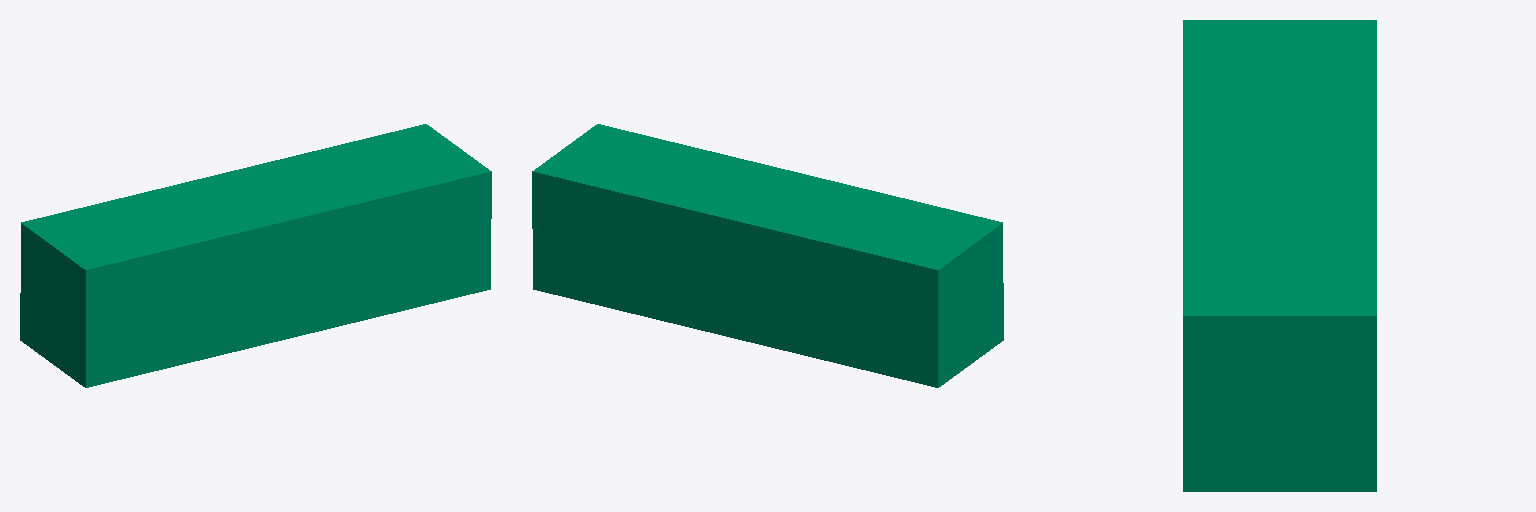
The robot description file, URDF, robot "ur5e_joint_limited_robotiq_2f_85":
<?xml version="1.0" ?>
<!-- =================================================================================== -->
<!-- |    This document was autogenerated by xacro from ur5e_joint_limited_robotiq_2f_85.urdf.xacro | -->
<!-- |    EDITING THIS FILE BY HAND IS NOT RECOMMENDED                                 | -->
<!-- =================================================================================== -->
<robot name="ur5e_joint_limited_robotiq_2f_85" xmlns:xacro="http://ros.org/wiki/xacro">
  <gazebo>
    <plugin filename="libgazebo_ros_control.so" name="ros_control">
      <!--robotNamespace>/</robotNamespace-->
      <!--robotSimType>gazebo_ros_control/DefaultRobotHWSim</robotSimType-->
    </plugin>
    <!--
    <plugin name="gazebo_ros_power_monitor_controller" filename="libgazebo_ros_power_monitor.so">
      <alwaysOn>true</alwaysOn>
      <updateRate>1.0</updateRate>
      <timeout>5</timeout>
      <powerStateTopic>power_state</powerStateTopic>
      <powerStateRate>10.0</powerStateRate>
      <fullChargeCapacity>87.78</fullChargeCapacity>     
      <dischargeRate>-474</dischargeRate>
      <chargeRate>525</chargeRate>
      <dischargeVoltage>15.52</dischargeVoltage>
      <chargeVoltage>16.41</chargeVoltage>
    </plugin>
-->
  </gazebo>
  <!--property name="shoulder_height" value="0.089159" /-->
  <!--property name="shoulder_offset" value="0.13585" /-->
  <!-- shoulder_offset - elbow_offset + wrist_1_length = 0.10915 -->
  <!--property name="upper_arm_length" value="0.42500" /-->
  <!--property name="elbow_offset" value="0.1197" /-->
  <!-- CAD measured -->
  <!--property name="forearm_length" value="0.39225" /-->
  <!--property name="wrist_1_length" value="0.093" /-->
  <!-- CAD measured -->
  <!--property name="wrist_2_length" value="0.09465" /-->
  <!-- In CAD this distance is 0.930, but in the spec it is 0.09465 -->
  <!--property name="wrist_3_length" value="0.0823" /-->
  <!-- manually measured -->
  <link name="base_link">
    <visual>
      <geometry>
        <mesh filename="package://ur_e_description/meshes/ur5e/visual/base.dae"/>
      </geometry>
      <material name="LightGrey">
        <color rgba="0.7 0.7 0.7 1.0"/>
      </material>
    </visual>
    <collision>
      <geometry>
        <mesh filename="package://ur_e_description/meshes/ur5e/collision/base.stl"/>
      </geometry>
    </collision>
    <inertial>
      <mass value="4.0"/>
      <origin rpy="0 0 0" xyz="0.0 0.0 0.0"/>
      <inertia ixx="0.00443333156" ixy="0.0" ixz="0.0" iyy="0.00443333156" iyz="0.0" izz="0.0072"/>
    </inertial>
  </link>
  <joint name="shoulder_pan_joint" type="revolute">
    <parent link="base_link"/>
    <child link="shoulder_link"/>
    <origin rpy="0.0 0.0 0.0" xyz="0.0 0.0 0.163"/>
    <axis xyz="0 0 1"/>
    <limit effort="150.0" lower="-6.28318530718" upper="6.28318530718" velocity="3.14"/>
    <dynamics damping="0.0" friction="0.0"/>
  </joint>
  <link name="shoulder_link">
    <visual>
      <geometry>
        <mesh filename="package://ur_e_description/meshes/ur5e/visual/shoulder.dae"/>
      </geometry>
      <material name="LightGrey">
        <color rgba="0.7 0.7 0.7 1.0"/>
      </material>
    </visual>
    <collision>
      <geometry>
        <mesh filename="package://ur_e_description/meshes/ur5e/collision/shoulder.stl"/>
      </geometry>
    </collision>
    <inertial>
      <mass value="3.7"/>
      <origin rpy="0 0 0" xyz="0.0 0.0 0.0"/>
      <inertia ixx="0.010267495893" ixy="0.0" ixz="0.0" iyy="0.010267495893" iyz="0.0" izz="0.00666"/>
    </inertial>
  </link>
  <joint name="shoulder_lift_joint" type="revolute">
    <parent link="shoulder_link"/>
    <child link="upper_arm_link"/>
    <origin rpy="0.0 1.57079632679 0.0" xyz="0.0 0.138 0.0"/>
    <axis xyz="0 1 0"/>
    <limit effort="150.0" lower="-6.28318530718" upper="6.28318530718" velocity="3.14"/>
    <dynamics damping="0.0" friction="0.0"/>
  </joint>
  <link name="upper_arm_link">
    <visual>
      <geometry>
        <mesh filename="package://ur_e_description/meshes/ur5e/visual/upperarm.dae"/>
      </geometry>
      <material name="LightGrey">
        <color rgba="0.7 0.7 0.7 1.0"/>
      </material>
    </visual>
    <collision>
      <geometry>
        <mesh filename="package://ur_e_description/meshes/ur5e/collision/upperarm.stl"/>
      </geometry>
    </collision>
    <inertial>
      <mass value="8.393"/>
      <origin rpy="0 0 0" xyz="0.0 0.0 0.2125"/>
      <inertia ixx="0.133885781862" ixy="0.0" ixz="0.0" iyy="0.133885781862" iyz="0.0" izz="0.0151074"/>
    </inertial>
  </link>
  <joint name="elbow_joint" type="revolute">
    <parent link="upper_arm_link"/>
    <child link="forearm_link"/>
    <origin rpy="0.0 0.0 0.0" xyz="0.0 -0.131 0.425"/>
    <axis xyz="0 1 0"/>
    <limit effort="150.0" lower="-3.14159265359" upper="3.14159265359" velocity="3.14"/>
    <dynamics damping="0.0" friction="0.0"/>
  </joint>
  <link name="forearm_link">
    <visual>
      <geometry>
        <mesh filename="package://ur_e_description/meshes/ur5e/visual/forearm.dae"/>
      </geometry>
      <material name="LightGrey">
        <color rgba="0.7 0.7 0.7 1.0"/>
      </material>
    </visual>
    <collision>
      <geometry>
        <mesh filename="package://ur_e_description/meshes/ur5e/collision/forearm.stl"/>
      </geometry>
    </collision>
    <inertial>
      <mass value="2.275"/>
      <origin rpy="0 0 0" xyz="0.0 0.0 0.196"/>
      <inertia ixx="0.0311796208615" ixy="0.0" ixz="0.0" iyy="0.0311796208615" iyz="0.0" izz="0.004095"/>
    </inertial>
  </link>
  <joint name="wrist_1_joint" type="revolute">
    <parent link="forearm_link"/>
    <child link="wrist_1_link"/>
    <origin rpy="0.0 1.57079632679 0.0" xyz="0.0 0.0 0.392"/>
    <axis xyz="0 1 0"/>
    <limit effort="28.0" lower="-6.28318530718" upper="6.28318530718" velocity="6.28"/>
    <dynamics damping="0.0" friction="0.0"/>
  </joint>
  <link name="wrist_1_link">
    <visual>
      <geometry>
        <mesh filename="package://ur_e_description/meshes/ur5e/visual/wrist1.dae"/>
      </geometry>
      <material name="LightGrey">
        <color rgba="0.7 0.7 0.7 1.0"/>
      </material>
    </visual>
    <collision>
      <geometry>
        <mesh filename="package://ur_e_description/meshes/ur5e/collision/wrist1.stl"/>
      </geometry>
    </collision>
    <inertial>
      <mass value="1.219"/>
      <origin rpy="0 0 0" xyz="0.0 0.127 0.0"/>
      <inertia ixx="0.00255989897604" ixy="0.0" ixz="0.0" iyy="0.00255989897604" iyz="0.0" izz="0.0021942"/>
    </inertial>
  </link>
  <joint name="wrist_2_joint" type="revolute">
    <parent link="wrist_1_link"/>
    <child link="wrist_2_link"/>
    <origin rpy="0.0 0.0 0.0" xyz="0.0 0.127 0.0"/>
    <axis xyz="0 0 1"/>
    <limit effort="28.0" lower="-6.28318530718" upper="6.28318530718" velocity="6.28"/>
    <dynamics damping="0.0" friction="0.0"/>
  </joint>
  <link name="wrist_2_link">
    <visual>
      <geometry>
        <mesh filename="package://ur_e_description/meshes/ur5e/visual/wrist2.dae"/>
      </geometry>
      <material name="LightGrey">
        <color rgba="0.7 0.7 0.7 1.0"/>
      </material>
    </visual>
    <collision>
      <geometry>
        <mesh filename="package://ur_e_description/meshes/ur5e/collision/wrist2.stl"/>
      </geometry>
    </collision>
    <inertial>
      <mass value="1.219"/>
      <origin rpy="0 0 0" xyz="0.0 0.0 0.1"/>
      <inertia ixx="0.00255989897604" ixy="0.0" ixz="0.0" iyy="0.00255989897604" iyz="0.0" izz="0.0021942"/>
    </inertial>
  </link>
  <joint name="wrist_3_joint" type="revolute">
    <parent link="wrist_2_link"/>
    <child link="wrist_3_link"/>
    <origin rpy="0.0 0.0 0.0" xyz="0.0 0.0 0.1"/>
    <axis xyz="0 1 0"/>
    <limit effort="28.0" lower="-6.28318530718" upper="6.28318530718" velocity="6.28"/>
    <dynamics damping="0.0" friction="0.0"/>
  </joint>
  <link name="wrist_3_link">
    <visual>
      <geometry>
        <mesh filename="package://ur_e_description/meshes/ur5e/visual/wrist3.dae"/>
      </geometry>
      <material name="LightGrey">
        <color rgba="0.7 0.7 0.7 1.0"/>
      </material>
    </visual>
    <collision>
      <geometry>
        <mesh filename="package://ur_e_description/meshes/ur5e/collision/wrist3.stl"/>
      </geometry>
    </collision>
    <inertial>
      <mass value="0.1879"/>
      <origin rpy="1.57079632679 0 0" xyz="0.0 0.0771 0.0"/>
      <inertia ixx="9.89041005217e-05" ixy="0.0" ixz="0.0" iyy="9.89041005217e-05" iyz="0.0" izz="0.0001321171875"/>
    </inertial>
  </link>
  <joint name="ee_fixed_joint" type="fixed">
    <parent link="wrist_3_link"/>
    <child link="ee_link"/>
    <origin rpy="0.0 0.0 1.57079632679" xyz="0.0 0.1 0.0"/>
  </joint>
  <link name="ee_link">
    <collision>
      <geometry>
        <box size="0.01 0.01 0.01"/>
      </geometry>
      <origin rpy="0 0 0" xyz="-0.01 0 0"/>
    </collision>
  </link>
  <transmission name="shoulder_pan_trans">
    <type>transmission_interface/SimpleTransmission</type>
    <joint name="shoulder_pan_joint">
      <hardwareInterface>hardware_interface/PositionJointInterface</hardwareInterface>
    </joint>
    <actuator name="shoulder_pan_motor">
      <mechanicalReduction>1</mechanicalReduction>
    </actuator>
  </transmission>
  <transmission name="shoulder_lift_trans">
    <type>transmission_interface/SimpleTransmission</type>
    <joint name="shoulder_lift_joint">
      <hardwareInterface>hardware_interface/PositionJointInterface</hardwareInterface>
    </joint>
    <actuator name="shoulder_lift_motor">
      <mechanicalReduction>1</mechanicalReduction>
    </actuator>
  </transmission>
  <transmission name="elbow_trans">
    <type>transmission_interface/SimpleTransmission</type>
    <joint name="elbow_joint">
      <hardwareInterface>hardware_interface/PositionJointInterface</hardwareInterface>
    </joint>
    <actuator name="elbow_motor">
      <mechanicalReduction>1</mechanicalReduction>
    </actuator>
  </transmission>
  <transmission name="wrist_1_trans">
    <type>transmission_interface/SimpleTransmission</type>
    <joint name="wrist_1_joint">
      <hardwareInterface>hardware_interface/PositionJointInterface</hardwareInterface>
    </joint>
    <actuator name="wrist_1_motor">
      <mechanicalReduction>1</mechanicalReduction>
    </actuator>
  </transmission>
  <transmission name="wrist_2_trans">
    <type>transmission_interface/SimpleTransmission</type>
    <joint name="wrist_2_joint">
      <hardwareInterface>hardware_interface/PositionJointInterface</hardwareInterface>
    </joint>
    <actuator name="wrist_2_motor">
      <mechanicalReduction>1</mechanicalReduction>
    </actuator>
  </transmission>
  <transmission name="wrist_3_trans">
    <type>transmission_interface/SimpleTransmission</type>
    <joint name="wrist_3_joint">
      <hardwareInterface>hardware_interface/PositionJointInterface</hardwareInterface>
    </joint>
    <actuator name="wrist_3_motor">
      <mechanicalReduction>1</mechanicalReduction>
    </actuator>
  </transmission>
  <gazebo reference="shoulder_link">
    <selfCollide>true</selfCollide>
  </gazebo>
  <gazebo reference="upper_arm_link">
    <selfCollide>true</selfCollide>
  </gazebo>
  <gazebo reference="forearm_link">
    <selfCollide>true</selfCollide>
  </gazebo>
  <gazebo reference="wrist_1_link">
    <selfCollide>true</selfCollide>
  </gazebo>
  <gazebo reference="wrist_3_link">
    <selfCollide>true</selfCollide>
  </gazebo>
  <gazebo reference="wrist_2_link">
    <selfCollide>true</selfCollide>
  </gazebo>
  <gazebo reference="ee_link">
    <selfCollide>true</selfCollide>
  </gazebo>
  <!-- ROS base_link to UR 'Base' Coordinates transform -->
  <link name="base"/>
  <joint name="base_link-base_fixed_joint" type="fixed">
    <!-- NOTE: this rotation is only needed as long as base_link itself is
                 not corrected wrt the real robot (ie: rotated over 180
                 degrees)
      -->
    <origin rpy="0 0 -3.14159265359" xyz="0 0 0"/>
    <parent link="base_link"/>
    <child link="base"/>
  </joint>
  <!-- Frame coincident with all-zeros TCP on UR controller -->
  <link name="tool0"/>
  <joint name="wrist_3_link-tool0_fixed_joint" type="fixed">
    <origin rpy="-1.57079632679 0 0" xyz="0 0.1 0"/>
    <parent link="wrist_3_link"/>
    <child link="tool0"/>
  </joint>
  <link name="realsense_camera_mount_link">
    <inertial>
      <origin rpy="0 0 0" xyz="-0.033226 -0.0065621 -0.0028938"/>
      <mass value="0.14272"/>
      <inertia ixx="0" ixy="0" ixz="0" iyy="0" iyz="0" izz="0"/>
    </inertial>
    <visual>
      <origin rpy="0 0 0" xyz="0 0 0"/>
      <geometry>
        <mesh filename="package://robotiq_2f_85_full/meshes/realsense_camera_link.STL"/>
      </geometry>
      <material name="">
        <color rgba="0.79216 0.81961 0.93333 1"/>
      </material>
    </visual>
    <collision>
      <origin rpy="0 0 0" xyz="0 0 0"/>
      <geometry>
        <mesh filename="package://robotiq_2f_85_full/meshes/realsense_camera_link.STL"/>
      </geometry>
    </collision>
  </link>
  <link name="millibar_adapter_robot_link">
    <inertial>
      <origin rpy="0 0 0" xyz="-0.0184274406708507 -0.00637681665375706 -0.053327869751534"/>
      <mass value="0.0726726298269008"/>
      <inertia ixx="9.38320322471287E-06" ixy="6.46884881109961E-08" ixz="1.85110039132892E-07" iyy="9.26662239699562E-06" iyz="-8.03404544445827E-07" izz="1.17418969978238E-06"/>
    </inertial>
    <visual>
      <origin rpy="0 0 0" xyz="0 0 0"/>
      <geometry>
        <mesh filename="package://robotiq_2f_85_full/meshes/millibar_adapter_robot_link.STL"/>
      </geometry>
      <material name="">
        <color rgba="0.776470588235294 0.756862745098039 0.737254901960784 1"/>
      </material>
    </visual>
    <collision>
      <origin rpy="0 0 0" xyz="0 0 0"/>
      <geometry>
        <mesh filename="package://robotiq_2f_85_full/meshes/millibar_adapter_robot_link.STL"/>
      </geometry>
    </collision>
  </link>
  <joint name="realsense_adapter_to_millibar_adapter_robot_joint" type="fixed">
    <origin rpy="2.7059E-16 0.7854 -3.1416" xyz="-0.10267 0.0074988 0.0034576"/>
    <parent link="realsense_camera_mount_link"/>
    <child link="millibar_adapter_robot_link"/>
    <axis xyz="0 0 0"/>
  </joint>
  <link name="millibar_adapter_gripper_link">
    <inertial>
      <origin rpy="0 0 0" xyz="0.000339767777517416 0.000413108059073474 -0.00316348991929165"/>
      <mass value="0.0615924087528081"/>
      <inertia ixx="2.6820752422346E-06" ixy="-1.20350331596028E-07" ixz="6.48740657216567E-08" iyy="6.10831607617094E-07" iyz="1.12024733686772E-06" izz="2.0851827265745E-06"/>
    </inertial>
    <visual>
      <origin rpy="0 0 0" xyz="0 0 0"/>
      <geometry>
        <mesh filename="package://robotiq_2f_85_full/meshes/millibar_adapter_gripper_link.STL"/>
      </geometry>
      <material name="">
        <color rgba="0.647058823529412 0.619607843137255 0.588235294117647 1"/>
      </material>
    </visual>
    <collision>
      <origin rpy="0 0 0" xyz="0 0 0"/>
      <geometry>
        <mesh filename="package://robotiq_2f_85_full/meshes/millibar_adapter_gripper_link.STL"/>
      </geometry>
    </collision>
  </link>
  <joint name="millibar_adapter_robot_to_millibar_adapter_gripper_joint" type="fixed">
    <origin rpy="0 -1.5707963267949 0" xyz="-0.0163169066859088 -0.019447 -0.051496847997168"/>
    <parent link="millibar_adapter_robot_link"/>
    <child link="millibar_adapter_gripper_link"/>
    <axis xyz="0 0 0"/>
  </joint>
  <link name="tcpip_adapter_link">
    <inertial>
      <origin rpy="0 0 0" xyz="-0.00136790557020363 8.53247449260908E-05 -0.00126580798615109"/>
      <mass value="0.0395985753458659"/>
      <inertia ixx="0" ixy="0" ixz="0" iyy="0" iyz="0" izz="0"/>
    </inertial>
    <visual>
      <origin rpy="0 0 0" xyz="0 0 0"/>
      <geometry>
        <mesh filename="package://robotiq_2f_85_full/meshes/tcpip_adapter_link.STL"/>
      </geometry>
      <material name="">
        <color rgba="0.796078431372549 0.823529411764706 0.937254901960784 1"/>
      </material>
    </visual>
    <collision>
      <origin rpy="0 0 0" xyz="0 0 0"/>
      <geometry>
        <mesh filename="package://robotiq_2f_85_full/meshes/tcpip_adapter_link.STL"/>
      </geometry>
    </collision>
  </link>
  <joint name="millibar_adapter_gripper_to_tcpip_adapter_joint" type="fixed">
    <origin rpy="1.5707963267949 2.77555756156289E-16 1.97215226305253E-31" xyz="0 -0.019 0"/>
    <parent link="millibar_adapter_gripper_link"/>
    <child link="tcpip_adapter_link"/>
    <axis xyz="0 0 0"/>
  </joint>
  <link name="robotiq_2f_85_body_link">
    <inertial>
      <origin rpy="0 0 0" xyz="0.00438949381849164 0.0105529993808305 0.199500811777213"/>
      <mass value="0.234330881455963"/>
      <inertia ixx="9.20072404929443E-06" ixy="-9.55166293501857E-13" ixz="1.00683829390664E-10" iyy="9.34710914818527E-06" iyz="8.52705980009592E-08" izz="1.60641773920936E-07"/>
    </inertial>
    <visual>
      <origin rpy="0 0 0" xyz="0 0 0"/>
      <geometry>
        <mesh filename="package://robotiq_2f_85_full/meshes/robotiq_2f_85_body_link.STL"/>
      </geometry>
      <material name="">
        <color rgba="0.792156862745098 0.819607843137255 0.933333333333333 1"/>
      </material>
    </visual>
    <collision>
      <origin rpy="0 0 0" xyz="0 0 0"/>
      <geometry>
        <mesh filename="package://robotiq_2f_85_full/meshes/robotiq_2f_85_body_link.STL"/>
      </geometry>
    </collision>
  </link>
  <joint name="tcpip_adapter_to_robotiq_2f_85_body_joint" type="fixed">
    <origin rpy="-6.93889390390723E-16 -5.52350545074437E-28 -7.95752352900081E-13" xyz="-0.00438896412532407 -0.0105415302656592 -0.162248066837809"/>
    <parent link="tcpip_adapter_link"/>
    <child link="robotiq_2f_85_body_link"/>
    <axis xyz="0 0 0"/>
  </joint>
  <link name="robotiq_2f_85_left_finger_link">
    <inertial>
      <origin rpy="0 0 0" xyz="0.00418730309969449 0.0317563630844434 0.255882424968551"/>
      <mass value="0.038905376961614"/>
      <inertia ixx="1.68705018386956E-05" ixy="-9.67455762819946E-13" ixz="-2.93070106557132E-06" iyy="2.40910213017045E-05" iyz="3.97452007549286E-13" izz="7.22051946300933E-06"/>
    </inertial>
    <visual>
      <origin rpy="0 0 0" xyz="0 0 0"/>
      <geometry>
        <mesh filename="package://robotiq_2f_85_full/meshes/robotiq_2f_85_left_finger_link.STL"/>
      </geometry>
      <material name="">
        <color rgba="0.792156862745098 0.819607843137255 0.933333333333333 1"/>
      </material>
    </visual>
    <collision>
      <origin rpy="0 0 0" xyz="0 0 0"/>
      <geometry>
        <mesh filename="package://robotiq_2f_85_full/meshes/robotiq_2f_85_left_finger_link.STL"/>
      </geometry>
    </collision>
  </link>
  <joint name="robotiq_2f_85_body_to_robotiq_2f_85_left_finger_joint" type="fixed">
    <origin rpy="0 0 -3.14159265358979" xyz="0.0614081599849013 0.0421978920004752 0"/>
    <parent link="robotiq_2f_85_body_link"/>
    <child link="robotiq_2f_85_left_finger_link"/>
    <axis xyz="0 0 0"/>
  </joint>
  <link name="robotiq_2f_85_right_finger_link">
    <inertial>
      <origin rpy="0 0 0" xyz="0.109851081060267 0.0317563608841004 0.255882429187002"/>
      <mass value="0.0389053769573109"/>
      <inertia ixx="1.68705133963097E-05" ixy="-9.16643854665332E-13" ixz="2.93071184589305E-06" iyy="2.40910344039002E-05" iyz="-1.0779768214657E-12" izz="7.22052100759103E-06"/>
    </inertial>
    <visual>
      <origin rpy="0 0 0" xyz="0 0 0"/>
      <geometry>
        <mesh filename="package://robotiq_2f_85_full/meshes/robotiq_2f_85_right_finger_link.STL"/>
      </geometry>
      <material name="">
        <color rgba="0.792156862745098 0.819607843137255 0.933333333333333 1"/>
      </material>
    </visual>
    <collision>
      <origin rpy="0 0 0" xyz="0 0 0"/>
      <geometry>
        <mesh filename="package://robotiq_2f_85_full/meshes/robotiq_2f_85_right_finger_link.STL"/>
      </geometry>
    </collision>
  </link>
  <joint name="robotiq_2f_85_body_to_robotiq_2f_85_right_finger_joint" type="fixed">
    <origin rpy="0 0 -3.14159265358979" xyz="0.0614081599849013 0.0421978920004752 0"/>
    <parent link="robotiq_2f_85_body_link"/>
    <child link="robotiq_2f_85_right_finger_link"/>
    <axis xyz="0 0 0"/>
  </joint>
  <link name="tcp_link"/>
  <joint name="tcpip_adapter_to_tcp_joint" type="fixed">
    <origin rpy="0 0 0" xyz="-0.0 0.0 0.14"/>
    <parent link="tcpip_adapter_link"/>
    <child link="tcp_link"/>
    <axis xyz="0 0 0"/>
  </joint>
  <link name="realsense_camera_link">
    <visual>
      <origin rpy="0 0 0" xyz="0 0 0"/>
      <geometry>
        <box size="0.09 0.025 0.025"/>
      </geometry>
    </visual>
  </link>
  <joint name="realsense_camera_adapter_to_realsense_camera_joint" type="fixed">
    <origin rpy="0 0.7854 0" xyz="0.00625 0.008125 0.04375"/>
    <parent link="realsense_camera_mount_link"/>
    <child link="realsense_camera_link"/>
    <axis xyz="0 0 0"/>
  </joint>
  <joint name="robotiq_85_adapters_joint" type="fixed">
    <parent link="tool0"/>
    <child link="realsense_camera_mount_link"/>
    <origin rpy="1.5707 0.0 -0.785" xyz="0.0235 -0.0535 0.0115"/>
  </joint>
  <!-- world -->
  <link name="world"/>
  <!-- world to robot joint -->
  <joint name="world_joint" type="fixed">
    <parent link="world"/>
    <child link="base_link"/>
    <origin rpy="0.0 0.0 0.0" xyz="0.0 0.0 0.0"/>
  </joint>
</robot>

--- Facts derived from the render (not from the file) ---
Views: 3 orthographic renders of the robot side by side, from view 1: azimuth 30°, elevation 25°; view 2: azimuth 150°, elevation 25°; view 3: azimuth 270°, elevation 25°.
Robot: ur5e_joint_limited_robotiq_2f_85 — 20 links, 19 joints (6 revolute, 13 fixed); root link world; default pose: every joint at zero.
Links seen in each view (by area): view 1: realsense_camera_link; view 2: realsense_camera_link; view 3: realsense_camera_link.
Boxes of the visible links, box(x1,y1,x2,y2) form: realsense_camera_link: box(20, 124, 491, 387); realsense_camera_link: box(532, 124, 1003, 387); realsense_camera_link: box(1183, 20, 1376, 491).
Size in the robot's own frame: 0.09 by 0.025 by 0.025 metres.
0 mesh visuals loaded from 14 distinct referenced files (none loaded); not drawn: 14 (reference not matched to a file when rendering).